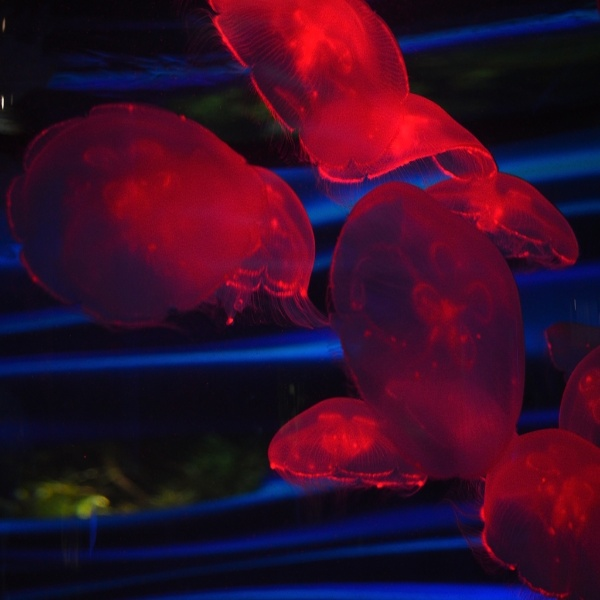Jellyfish: (16, 81, 333, 335), (326, 181, 526, 485), (204, 0, 411, 171), (210, 169, 335, 335), (479, 429, 599, 599), (306, 87, 497, 187), (267, 393, 425, 492), (427, 177, 578, 275), (556, 347, 599, 444)
